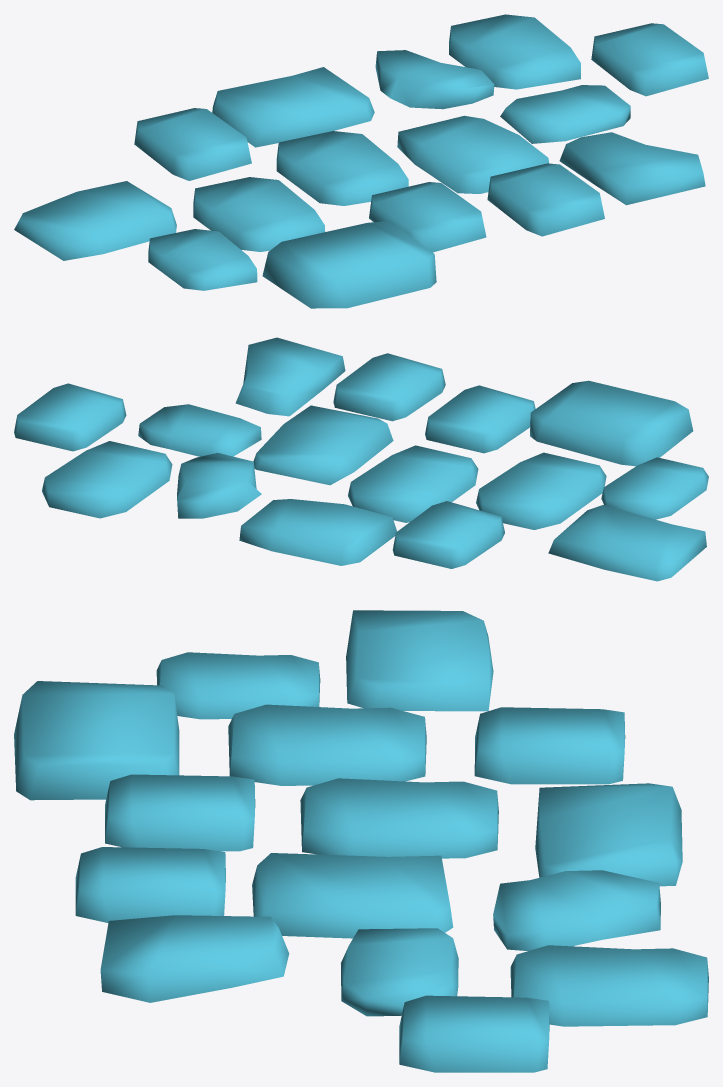
Rendered from brick_group_01.FBX.
3 renders of one model, top to bottom at view 1: azimuth 30°, elevation 25°; view 2: azimuth 150°, elevation 25°; view 3: azimuth 270°, elevation 25°, orthographic. The views are drawn at different scales.
Parts seen in each view (by area): view 1: brick_group_01; view 2: brick_group_01; view 3: brick_group_01.
Boxes of the visible parts, x1=… form: brick_group_01: x1=14, y1=14, x2=708, y2=308; brick_group_01: x1=14, y1=337, x2=708, y2=581; brick_group_01: x1=14, y1=610, x2=708, y2=1072.
Bounding box in the file's own units: 135 × 6.09 × 87.49.
